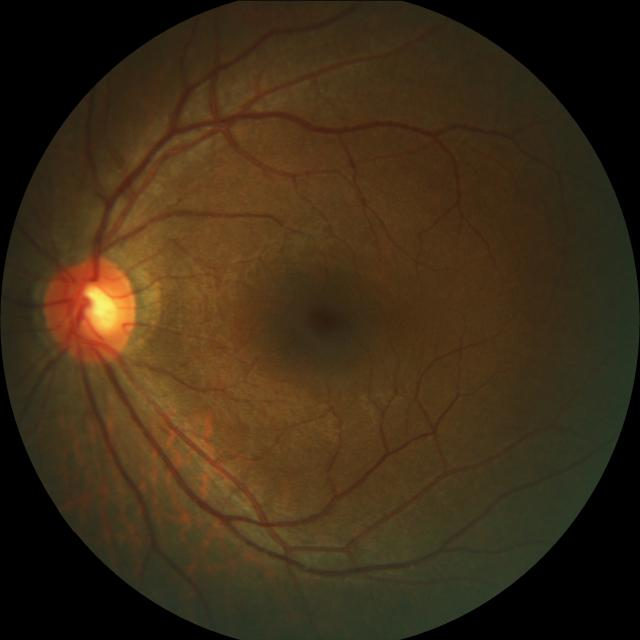OC: (73, 279, 122, 339)
OD: (45, 254, 140, 362)
